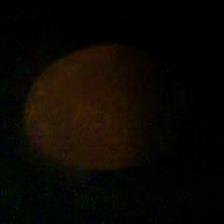fertile: (21, 45, 179, 173)
